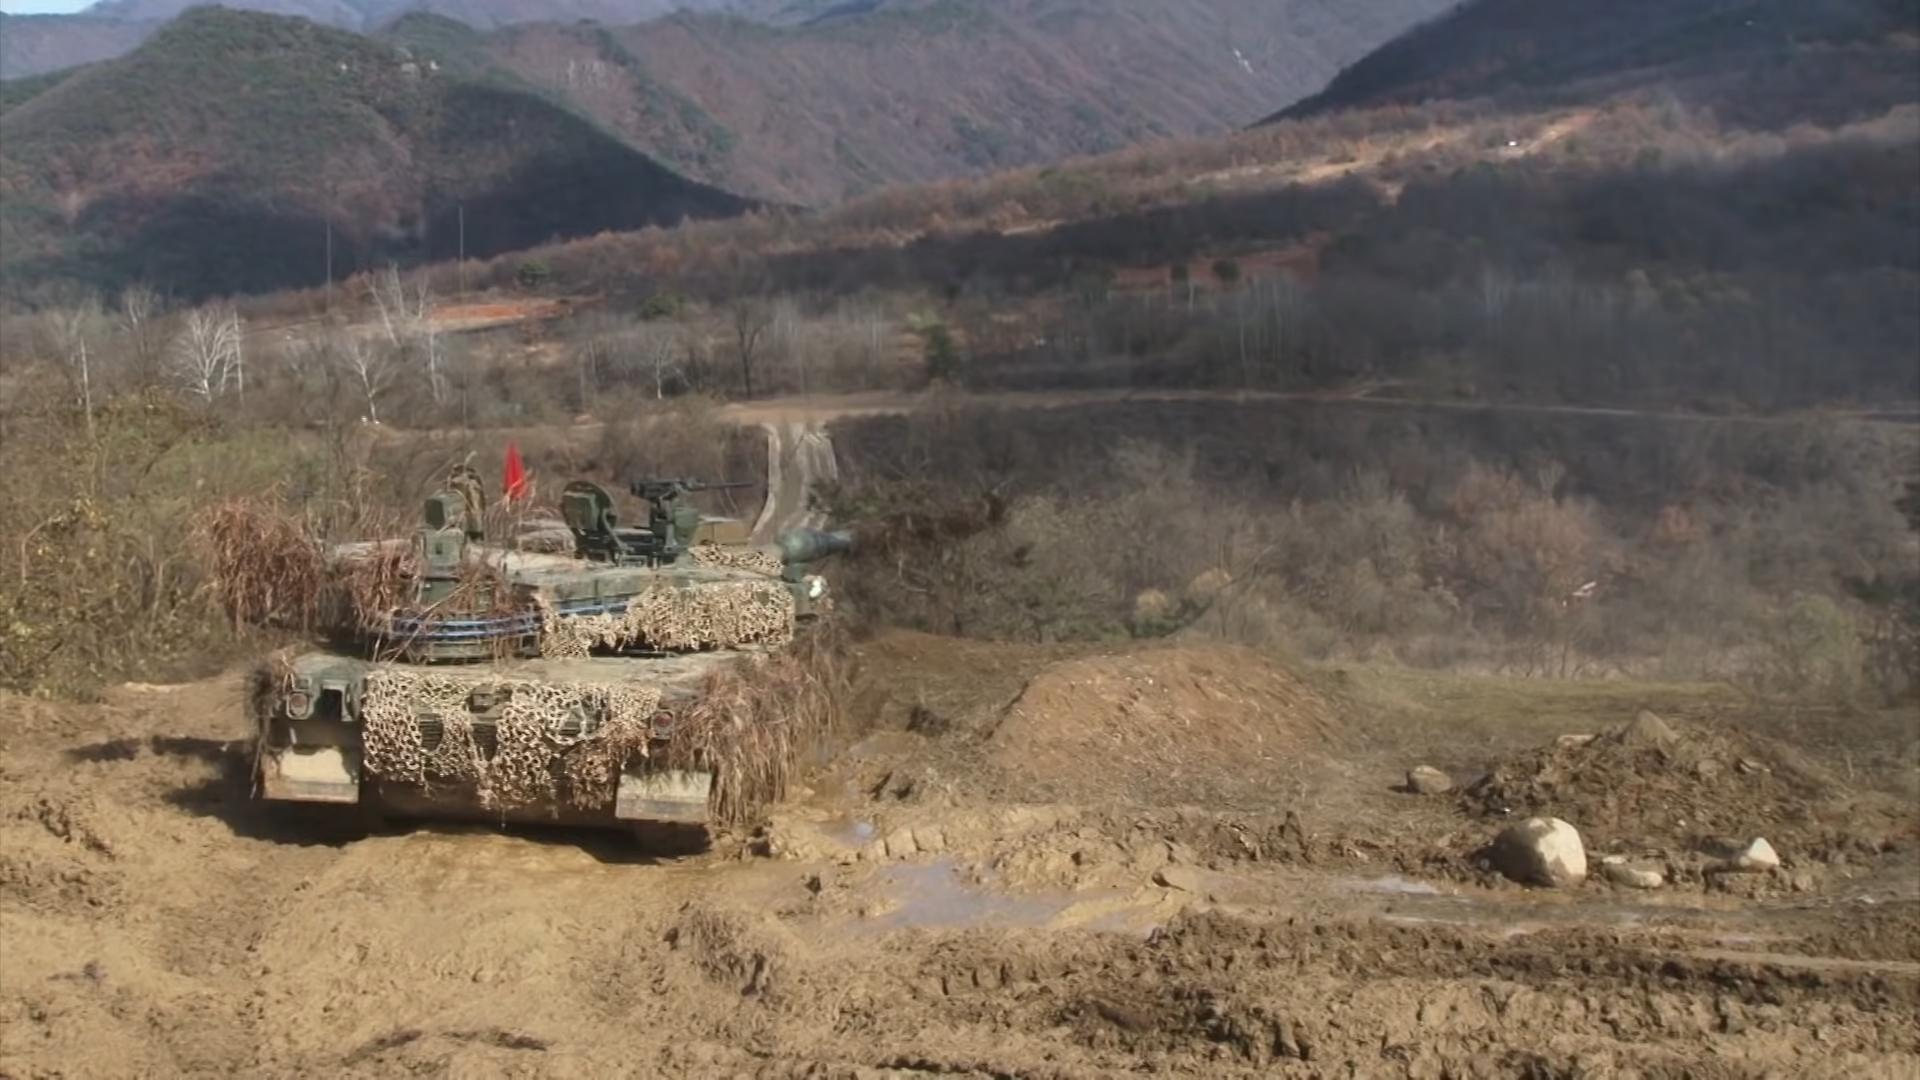tank: (208, 471, 1001, 849)
